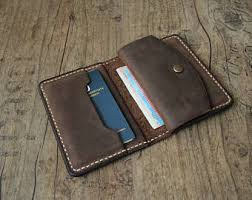monedero: (40, 34, 233, 176)
